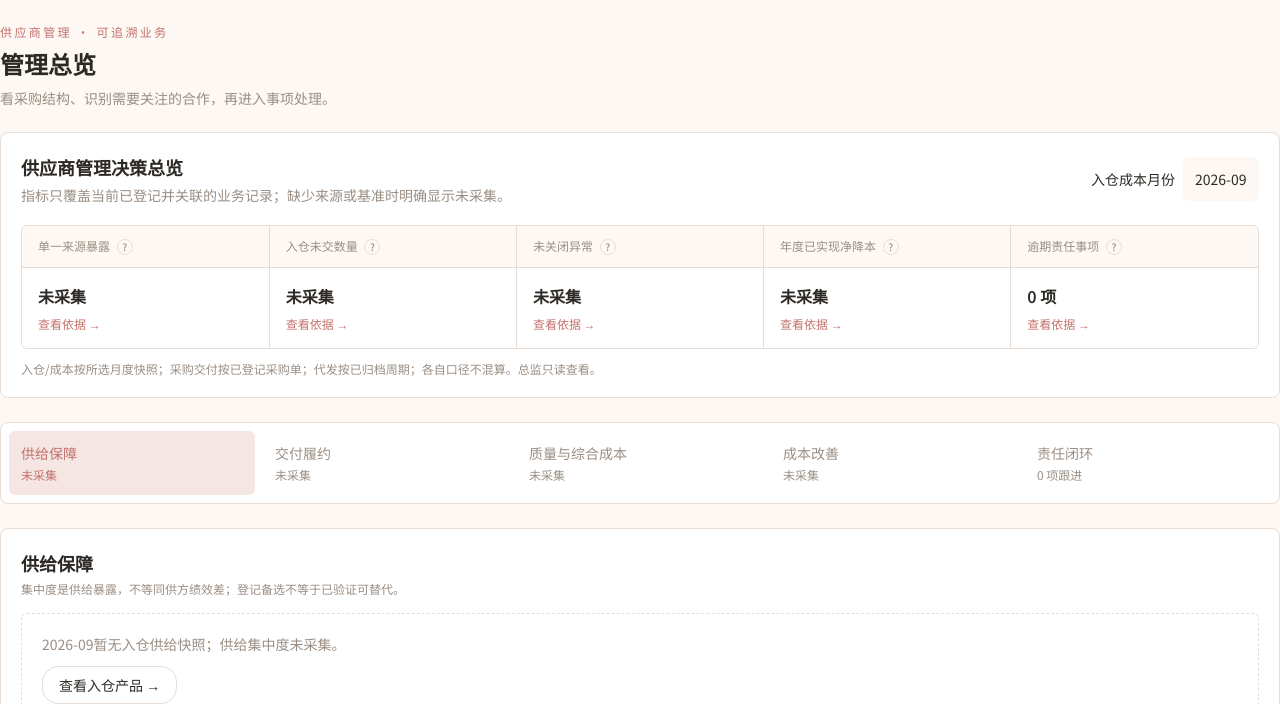
Scenario: shows imported native scores and actual metrics without blending inbound and dropship
This screenshot has width=1280, height=704.
Click the tab "交付履约 未采集" at (386, 463), box [263,431,509,495]
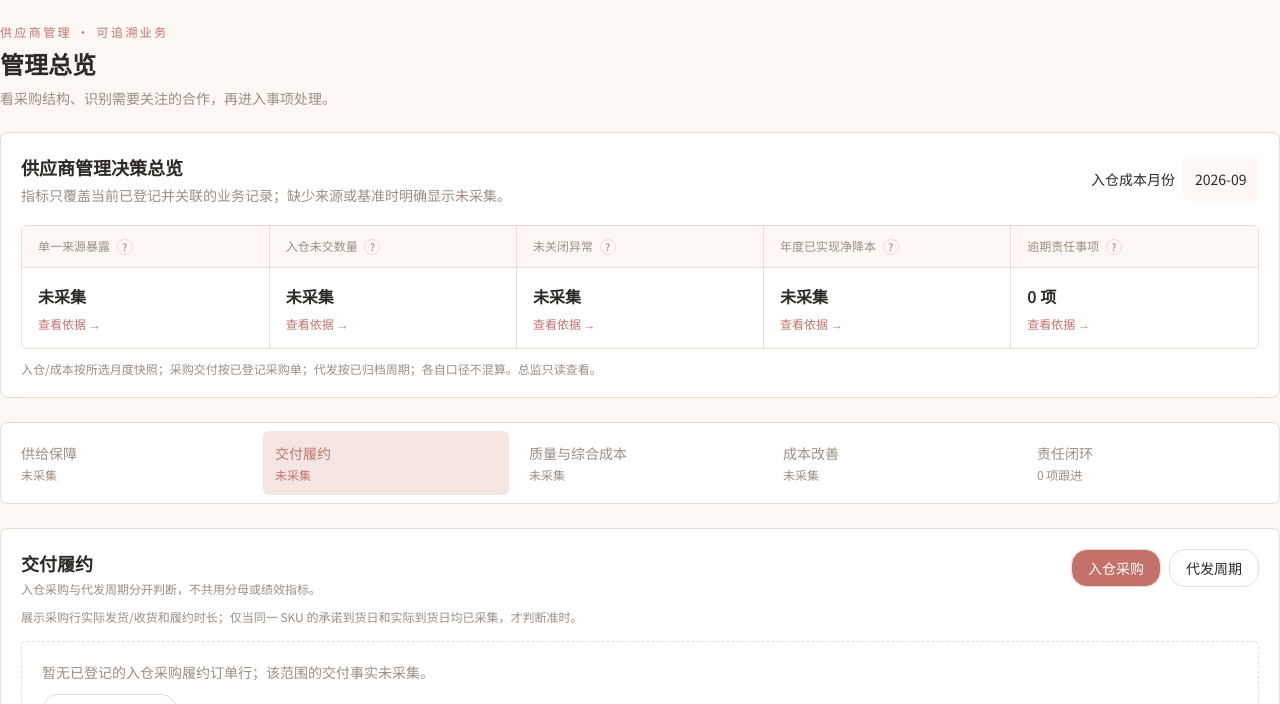
Expected: the table "聚水潭原生绩效结果" does not show "代发"
Click the button "代发周期" at (1214, 568), box [1169,549,1259,587]
(page scrolled)
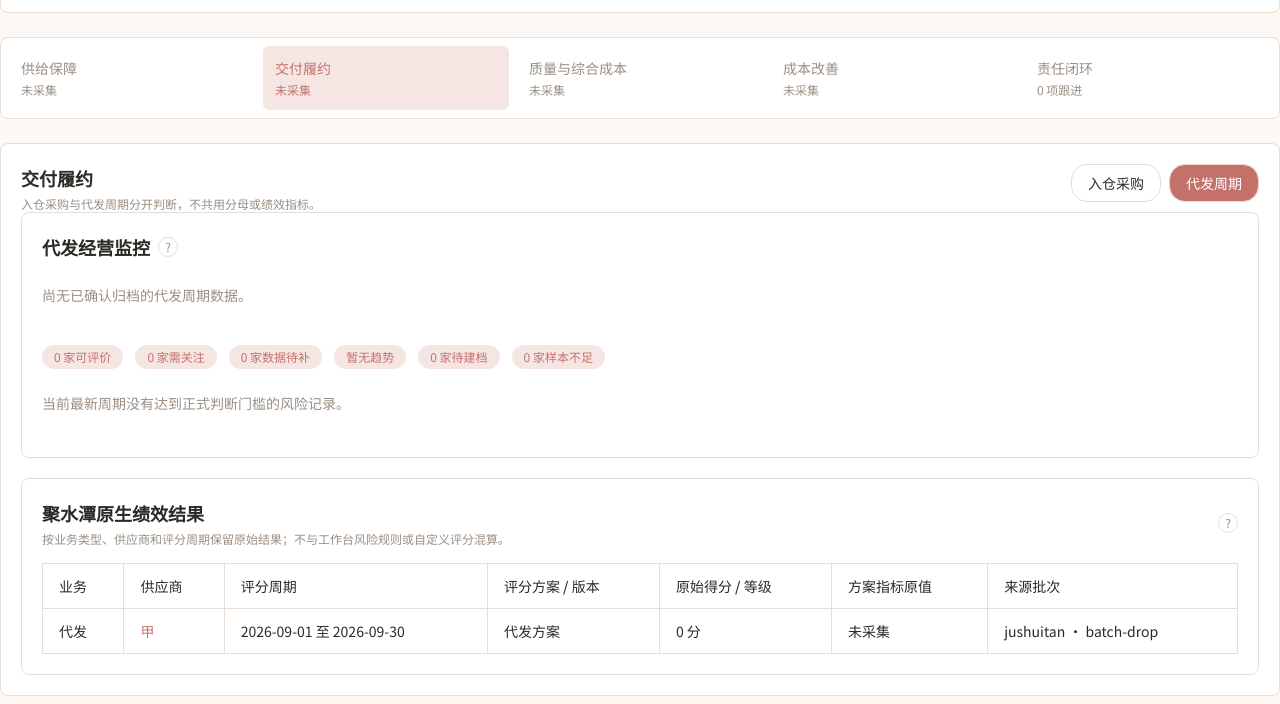
Expected: the table "聚水潭原生绩效结果" does not show "入仓"
Result: the table named "聚水潭原生绩效结果" shows "代发" at [59,621,87,641]
Result: the table named "聚水潭原生绩效结果" shows "未采集" at [848,621,890,641]
